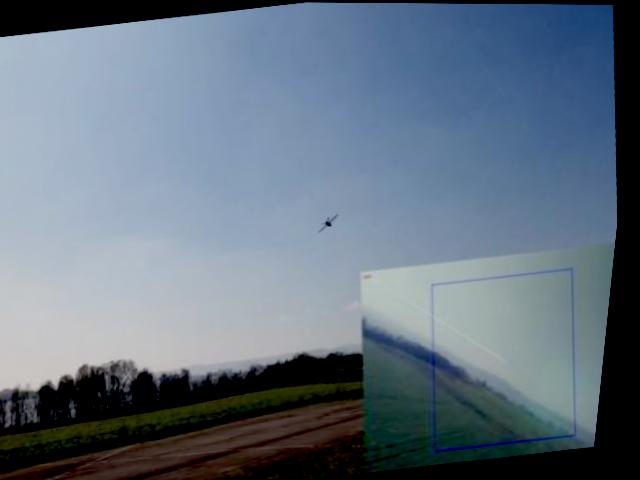uav: (318, 208, 346, 235)
